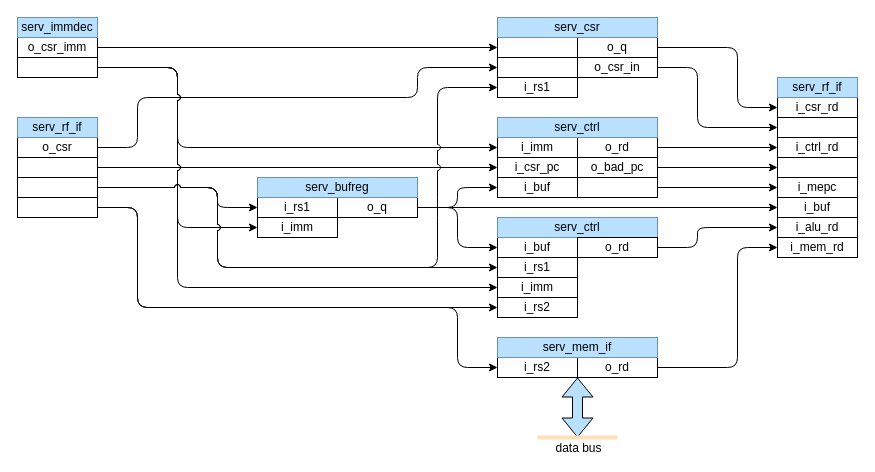
Image size: 875x472. Some labels were removed from this diagram. The centre of each missing label's shape, as x and y in pixels:
"i_bad_pc" belongs at (817,167).
"i_csr" belongs at (817,127).
"i_csr_imm" belongs at (537,47).
"i_rf_csr_out" belongs at (537,67).
"o_csr_pc" belongs at (57,167).
"o_ibus_adr[0]" belongs at (617,187).
"o_imm" belongs at (57,67).
"o_rs1" belongs at (57,187).
"o_rs2" belongs at (57,207).
